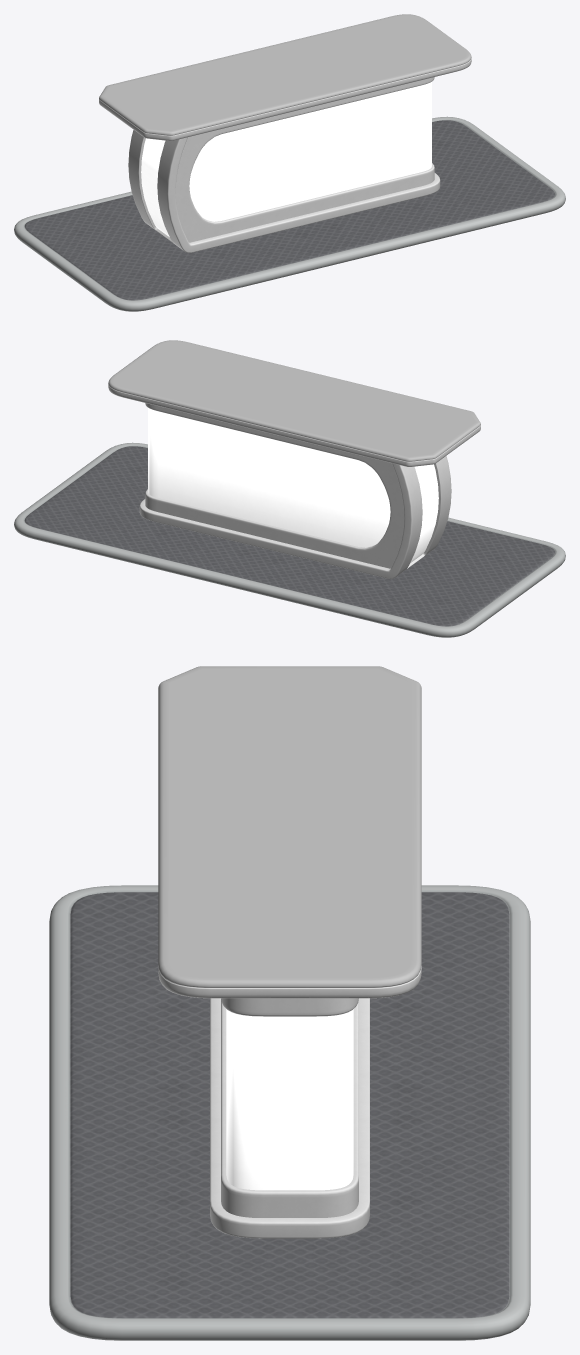
File: BarTable09_1.FBX
The picture shows the model from 3 angles, top to bottom: view 1: azimuth 30°, elevation 25°; view 2: azimuth 150°, elevation 25°; view 3: azimuth 270°, elevation 25°; orthographic projection. The views are drawn at different scales.
Visible parts, largest first — view 1: BarTable09_1; view 2: BarTable09_1; view 3: BarTable09_1.
Part boxes in pixels (<box>): BarTable09_1: <box>14,14,565,311</box>; BarTable09_1: <box>14,340,565,637</box>; BarTable09_1: <box>49,666,530,1340</box>.
Size of what is drawn, in the model's own units: 3.73 by 1.15 by 1.71.
